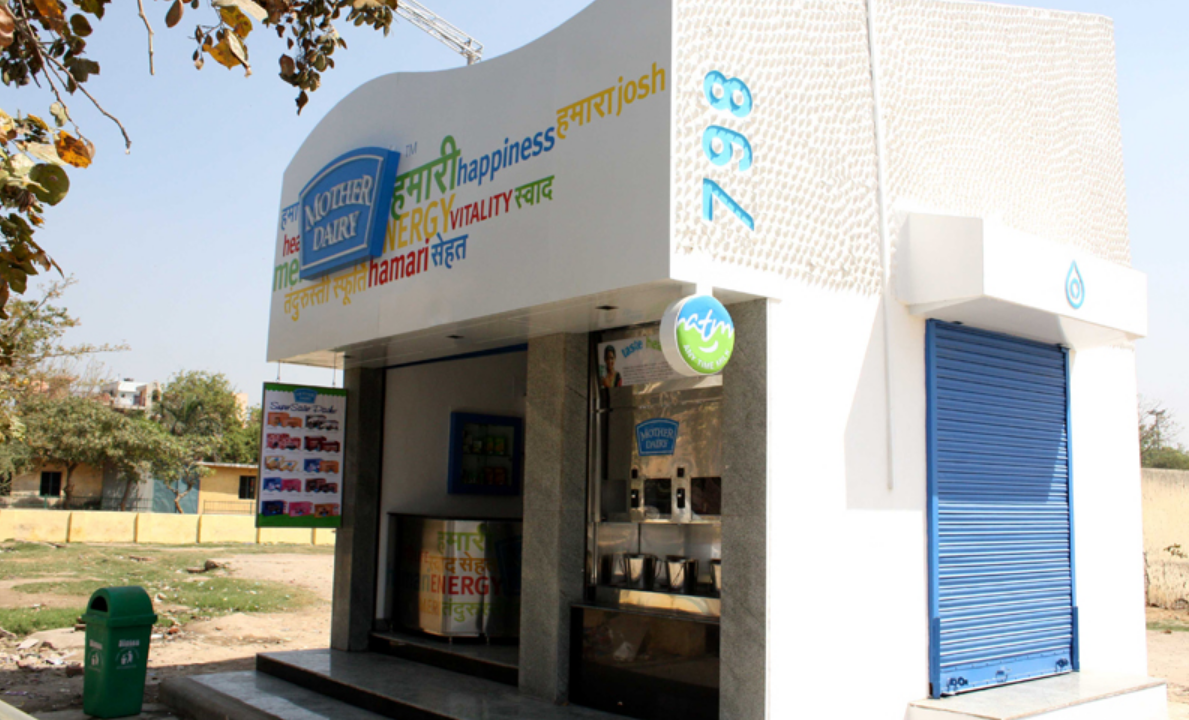Mother_Dairy: (284, 146, 406, 282)
